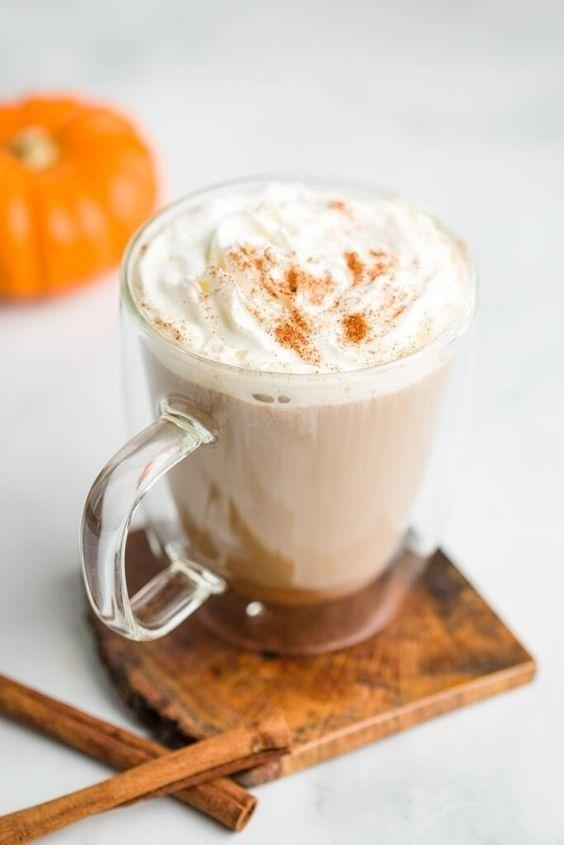glass-mug: (85, 164, 486, 667)
